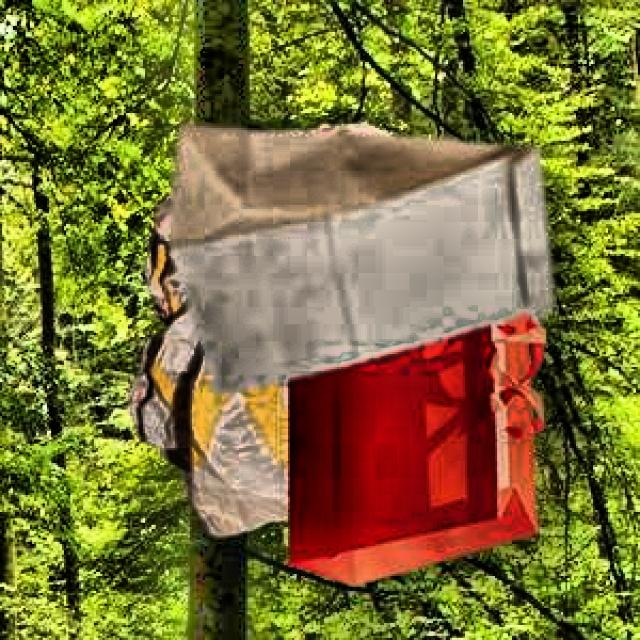Paper-bag: (167, 130, 564, 377), (272, 297, 546, 594), (136, 193, 350, 552)
